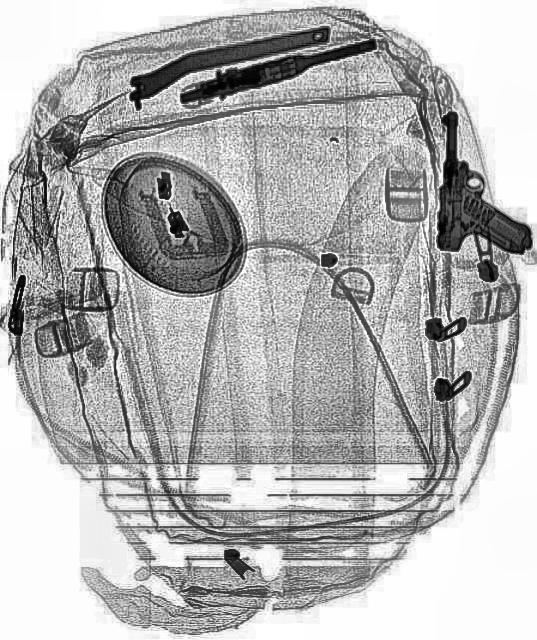Gun: (175, 23, 377, 109), (434, 109, 534, 258)
